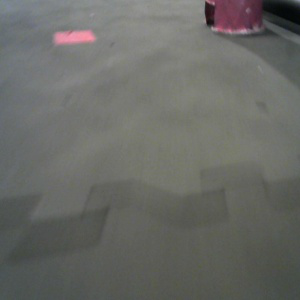Right: (201, 1, 267, 37)
